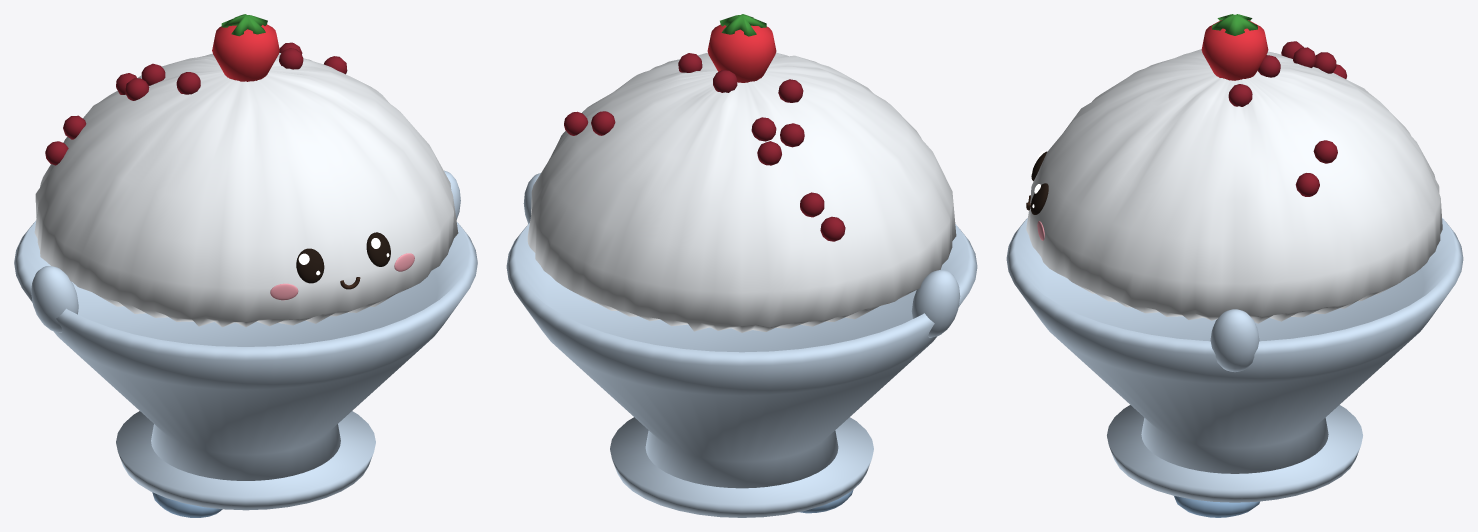
The model's file is bingsu.glb.
The picture shows the model from 3 angles, left to right: view 1: azimuth 30°, elevation 25°; view 2: azimuth 150°, elevation 25°; view 3: azimuth 270°, elevation 25°; orthographic projection. The views are drawn at different scales.
Visible parts, largest first — view 1: bingsu; view 2: bingsu; view 3: bingsu.
Boxes of the visible parts, x1,y1,x2,y2 form: bingsu: (14, 14, 477, 517); bingsu: (506, 14, 977, 517); bingsu: (1006, 14, 1463, 517).
Bounding box in the file's own units: 0.0863 × 0.0924 × 0.082.
